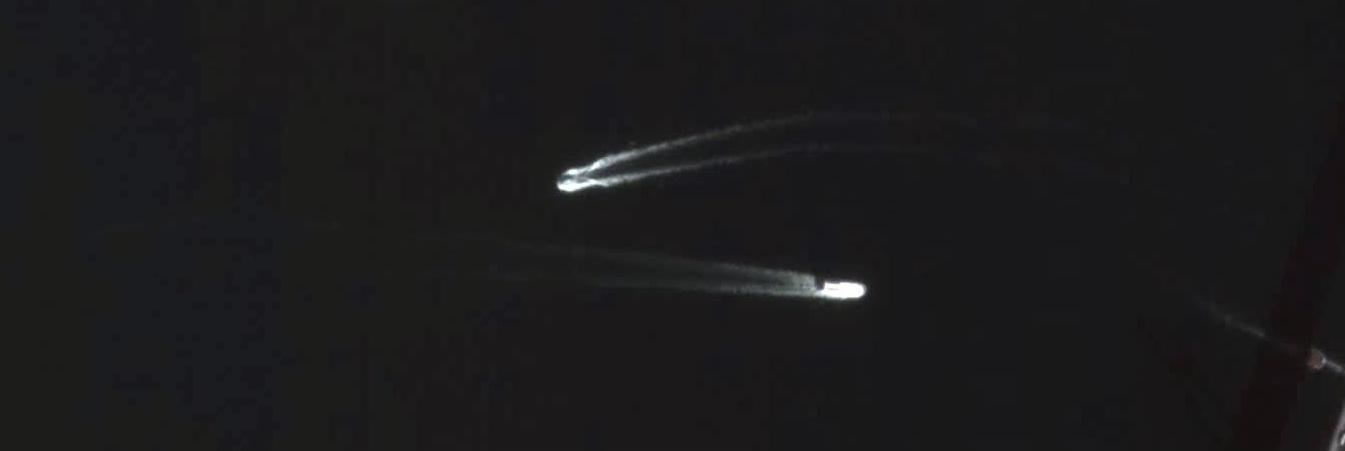person: (1310, 350, 1342, 376), (823, 282, 866, 299), (557, 170, 586, 186)
